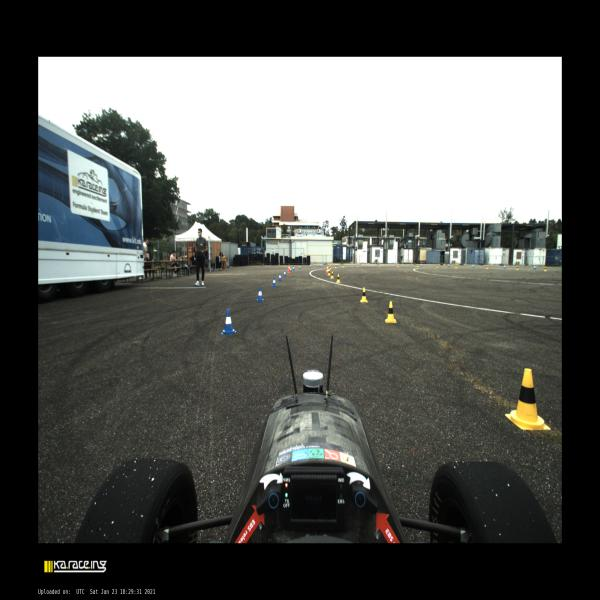blue_cone: (221, 309, 237, 335), (257, 287, 264, 302), (272, 277, 277, 287), (278, 273, 282, 281), (283, 270, 286, 277), (292, 266, 295, 271), (533, 265, 536, 270), (503, 265, 506, 269), (290, 267, 292, 272), (309, 265, 312, 268), (299, 265, 301, 269), (472, 264, 474, 267), (320, 264, 322, 266), (448, 264, 449, 267), (336, 264, 337, 266), (421, 264, 422, 266), (378, 263, 378, 266)
large_orange_cone: (288, 264, 291, 274), (326, 264, 329, 274)
yellow_cone: (505, 367, 551, 431), (385, 301, 397, 323), (360, 287, 368, 303), (336, 274, 340, 283), (327, 269, 331, 276), (331, 271, 334, 279), (329, 264, 332, 270), (544, 266, 547, 272), (516, 266, 519, 270), (328, 266, 330, 270), (486, 265, 488, 269), (456, 264, 458, 268), (436, 264, 438, 268), (417, 264, 419, 268), (335, 264, 337, 268), (342, 264, 344, 267), (397, 264, 399, 267), (379, 263, 380, 267), (357, 264, 358, 267)
